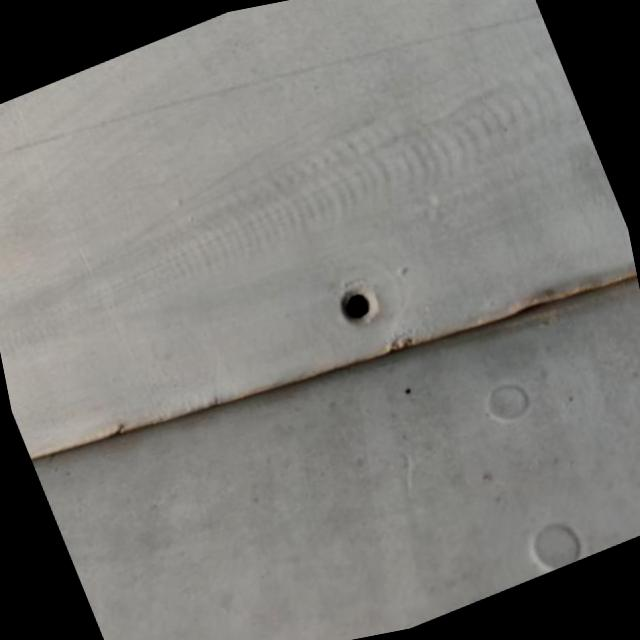Missing Fastener: (330, 266, 400, 338)
